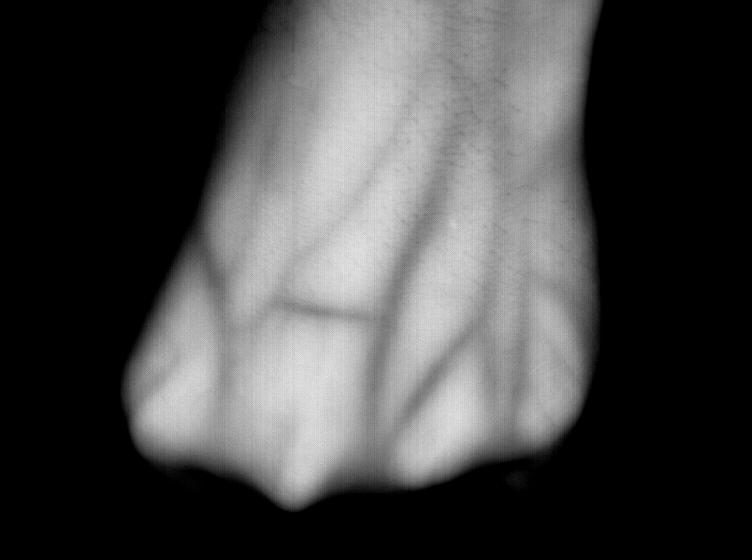Vein: (280, 105, 465, 399)
